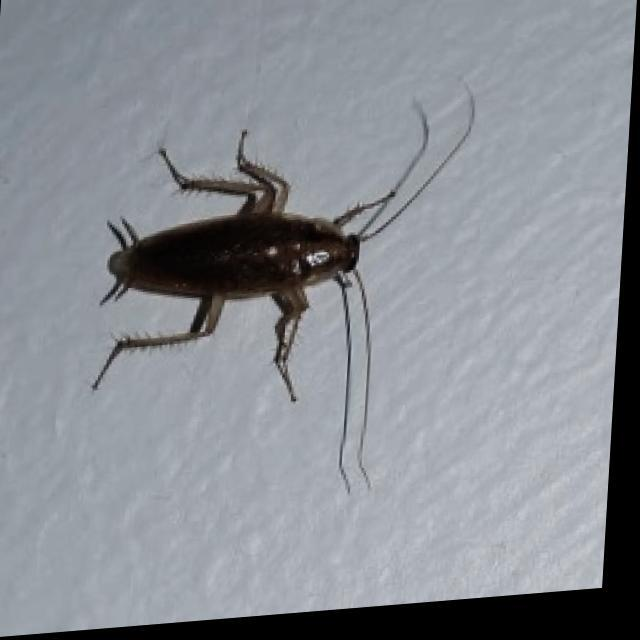cockroach: (86, 79, 481, 498)
